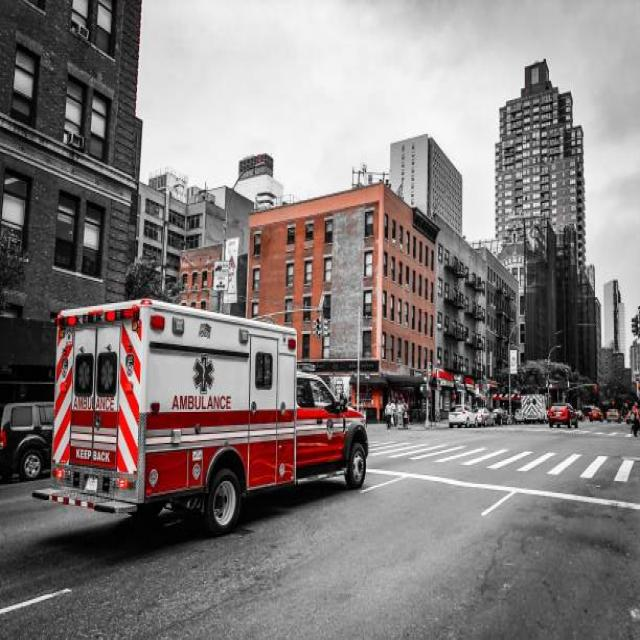emergency: (34, 299, 369, 532)
